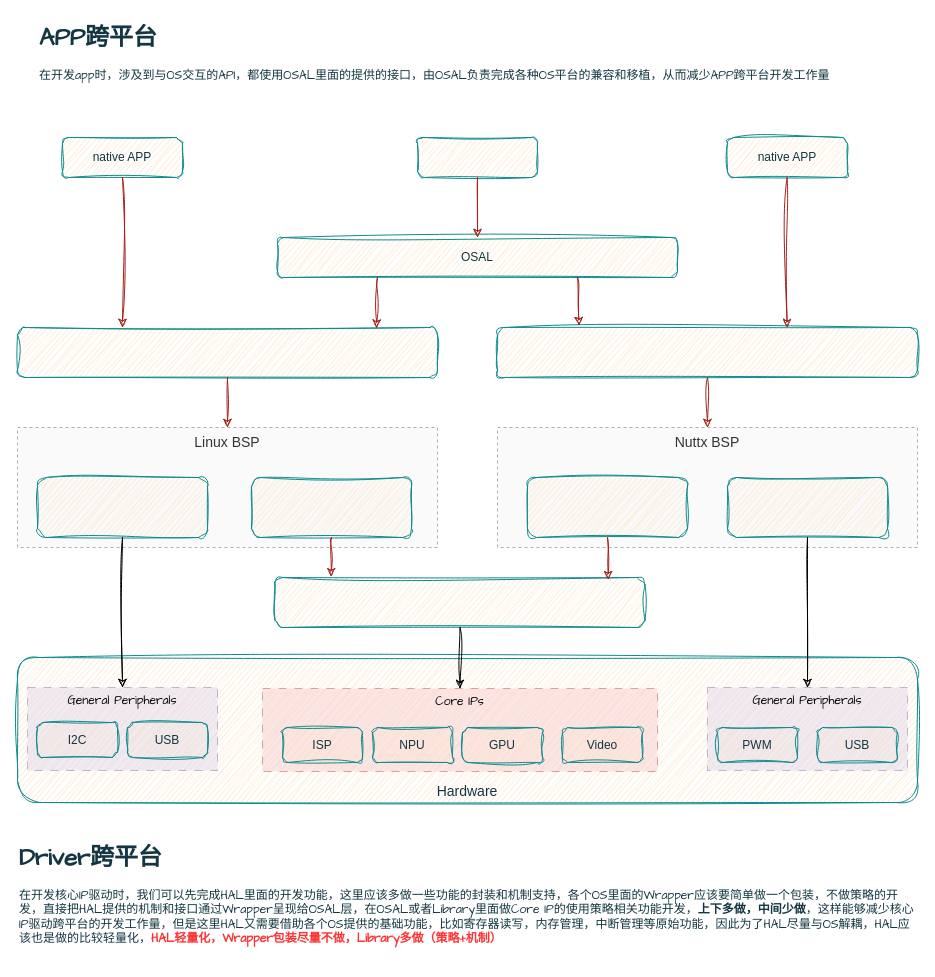
The diagram is 935 pixels wide and 977 high, and some of its shapes have lost their labels. Here are the shapes that lost their labels. From the top down, the centre of each, then its label:
At point (477, 157): "cross-platform APP".
At point (227, 352): "Linux".
At point (707, 352): "Nuttx".
At point (122, 507): "Linux I2C, UART, PWM, USB drivers".
At point (331, 507): "Linux ISP, NPU, GPU, VPU wrapper".
At point (607, 507): "Nuttx ISP, NPU, GPU, VPU wrapper".
At point (807, 507): "Nuttx I2C, UART, PWM, USB drivers".
At point (459, 602): "HAL(Hardware Abstraction Layer)".
